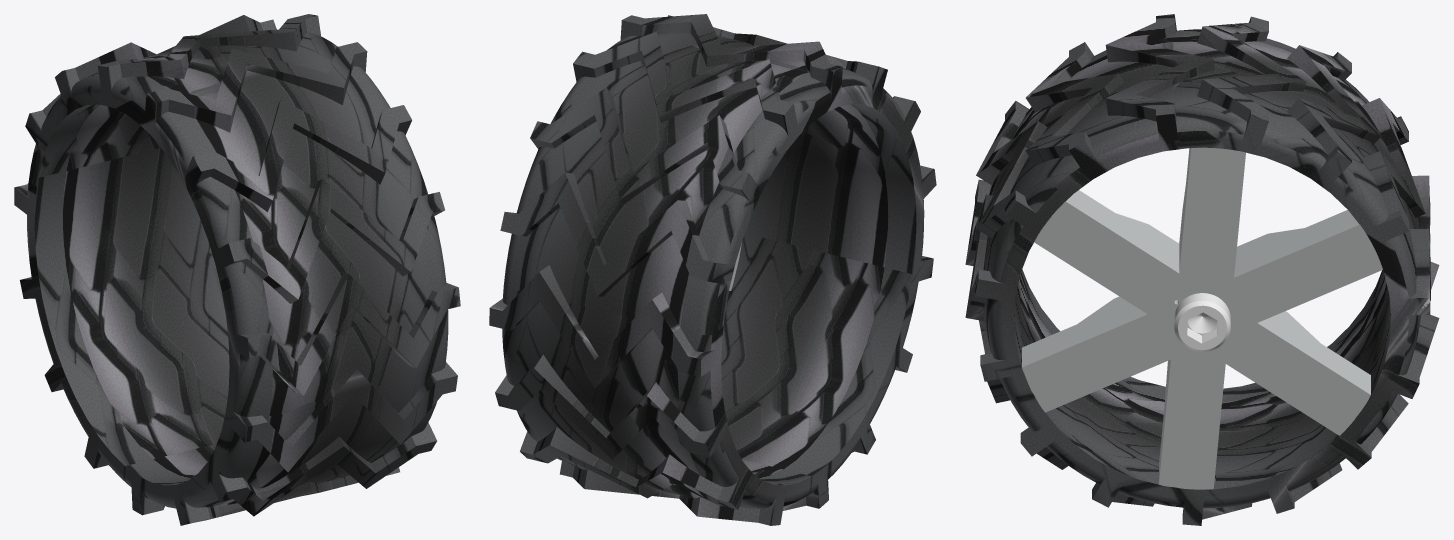
Rendered from wheel.dae.
3 views of the same model, side by side, from view 1: azimuth 30°, elevation 25°; view 2: azimuth 150°, elevation 25°; view 3: azimuth 270°, elevation 25° (orthographic). The views are drawn at different scales.
Visible parts, largest first — view 1: wheel; view 2: wheel; view 3: wheel.
Part boxes in pixels (x1=…): wheel: x1=14, y1=14, x2=460, y2=525; wheel: x1=489, y1=14, x2=936, y2=525; wheel: x1=965, y1=14, x2=1439, y2=525.
Bounding box in the file's own units: 0.164 × 0.3015 × 0.2999.
4 materials, 1 textured.
